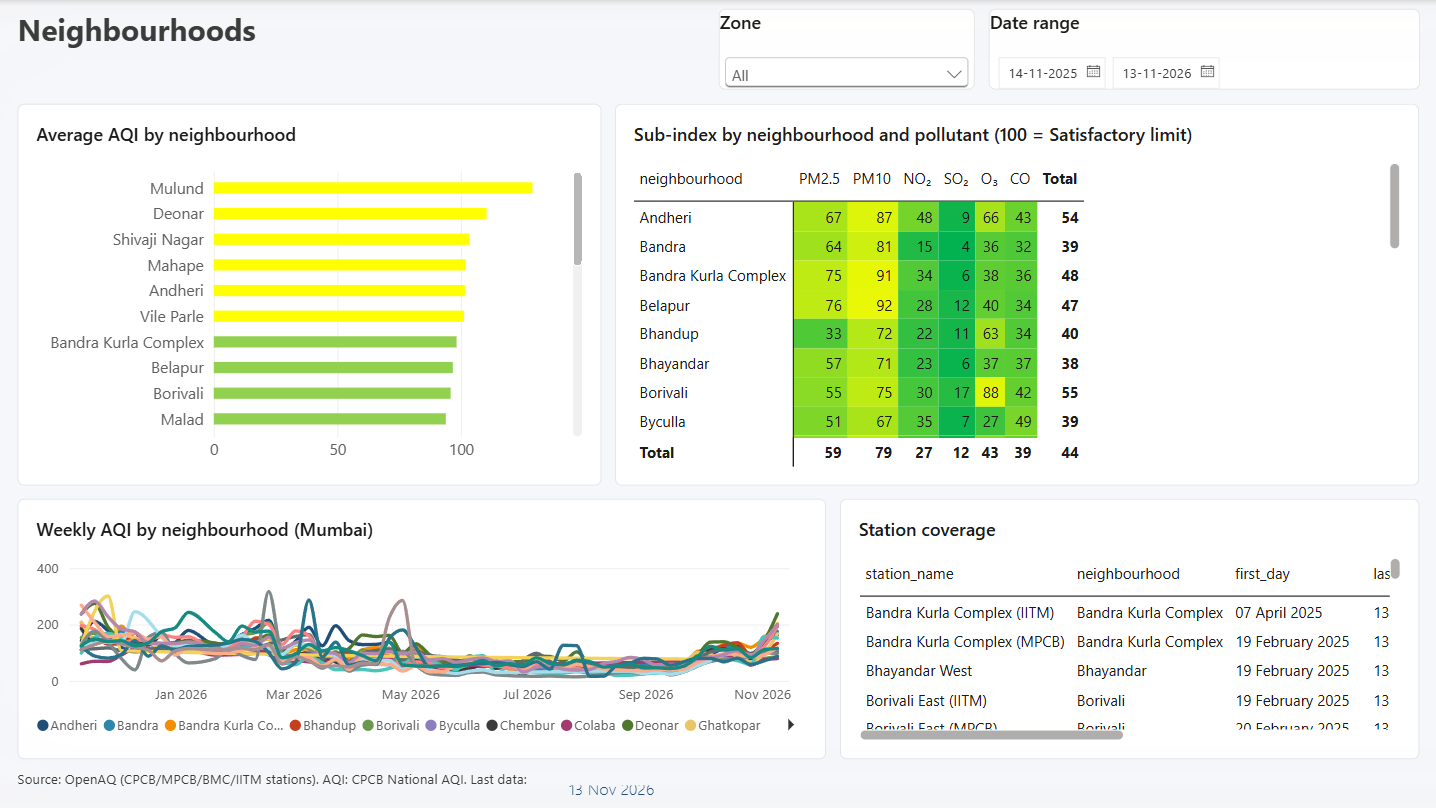

The dashboard page shown, as its layout file describes it:
{"tool":"powerbi","page":{"name":"Neighbourhoods","canvas":[1280,720],"ordinal":1},"visuals":[{"type":"textbox","box":[16,8,600,48],"z":0},{"type":"textbox","box":[16,684,462,30],"z":1000},{"type":"card","fields":{"Values":["_Measures.Latest Day"]},"box":[470,678,150,40],"z":2000},{"type":"slicer","title":"Date range","fields":{"Values":["dim_date.day"]},"box":[880,8,384,72],"z":3000},{"type":"slicer","title":"Zone","fields":{"Values":["dim_station.zone"]},"box":[640,8,228,72],"z":4000},{"type":"clusteredBarChart","title":"Average AQI by neighbourhood","fields":{"Category":["dim_station.neighbourhood"],"Y":["_Measures.Station AQI"]},"box":[16,92,520,340],"z":5000},{"type":"pivotTable","title":"Sub-index by neighbourhood and pollutant (100 = Satisfactory limit)","fields":{"Columns":["dim_pollutant.display_name"],"Rows":["dim_station.neighbourhood"],"Values":["_Measures.Avg Sub-index"]},"box":[548,92,716,340],"z":6000},{"type":"lineChart","title":"Weekly AQI by neighbourhood (Mumbai)","fields":{"Category":["dim_date.week_start"],"Series":["dim_station.neighbourhood"],"Y":["_Measures.Station AQI"]},"box":[16,444,720,232],"z":7000},{"type":"tableEx","title":"Station coverage","fields":{"Values":["station_coverage.station_name","station_coverage.neighbourhood","station_coverage.first_day","station_coverage.last_day","station_coverage.days_with_aqi","station_coverage.pct_days_with_aqi","station_coverage.pollutants"]},"box":[748,444,516,232],"z":8000}]}

Visuals, with their boxes in screenshot pixels (x1, y1, x2, y2), scaled from the page's 1280x720 canvas onto the 1436x808 screenshot:
textbox: locate(18, 9, 691, 63)
textbox: locate(18, 768, 536, 801)
card - _Measures.Latest Day: locate(527, 761, 696, 806)
"Date range" slicer: locate(987, 9, 1418, 90)
"Zone" slicer: locate(718, 9, 974, 90)
"Average AQI by neighbourhood" clusteredBarChart: locate(18, 103, 601, 485)
"Sub-index by neighbourhood and pollutant (100 = Satisfactory limit)" pivotTable: locate(615, 103, 1418, 485)
"Weekly AQI by neighbourhood (Mumbai)" lineChart: locate(18, 498, 826, 759)
"Station coverage" tableEx: locate(839, 498, 1418, 759)
